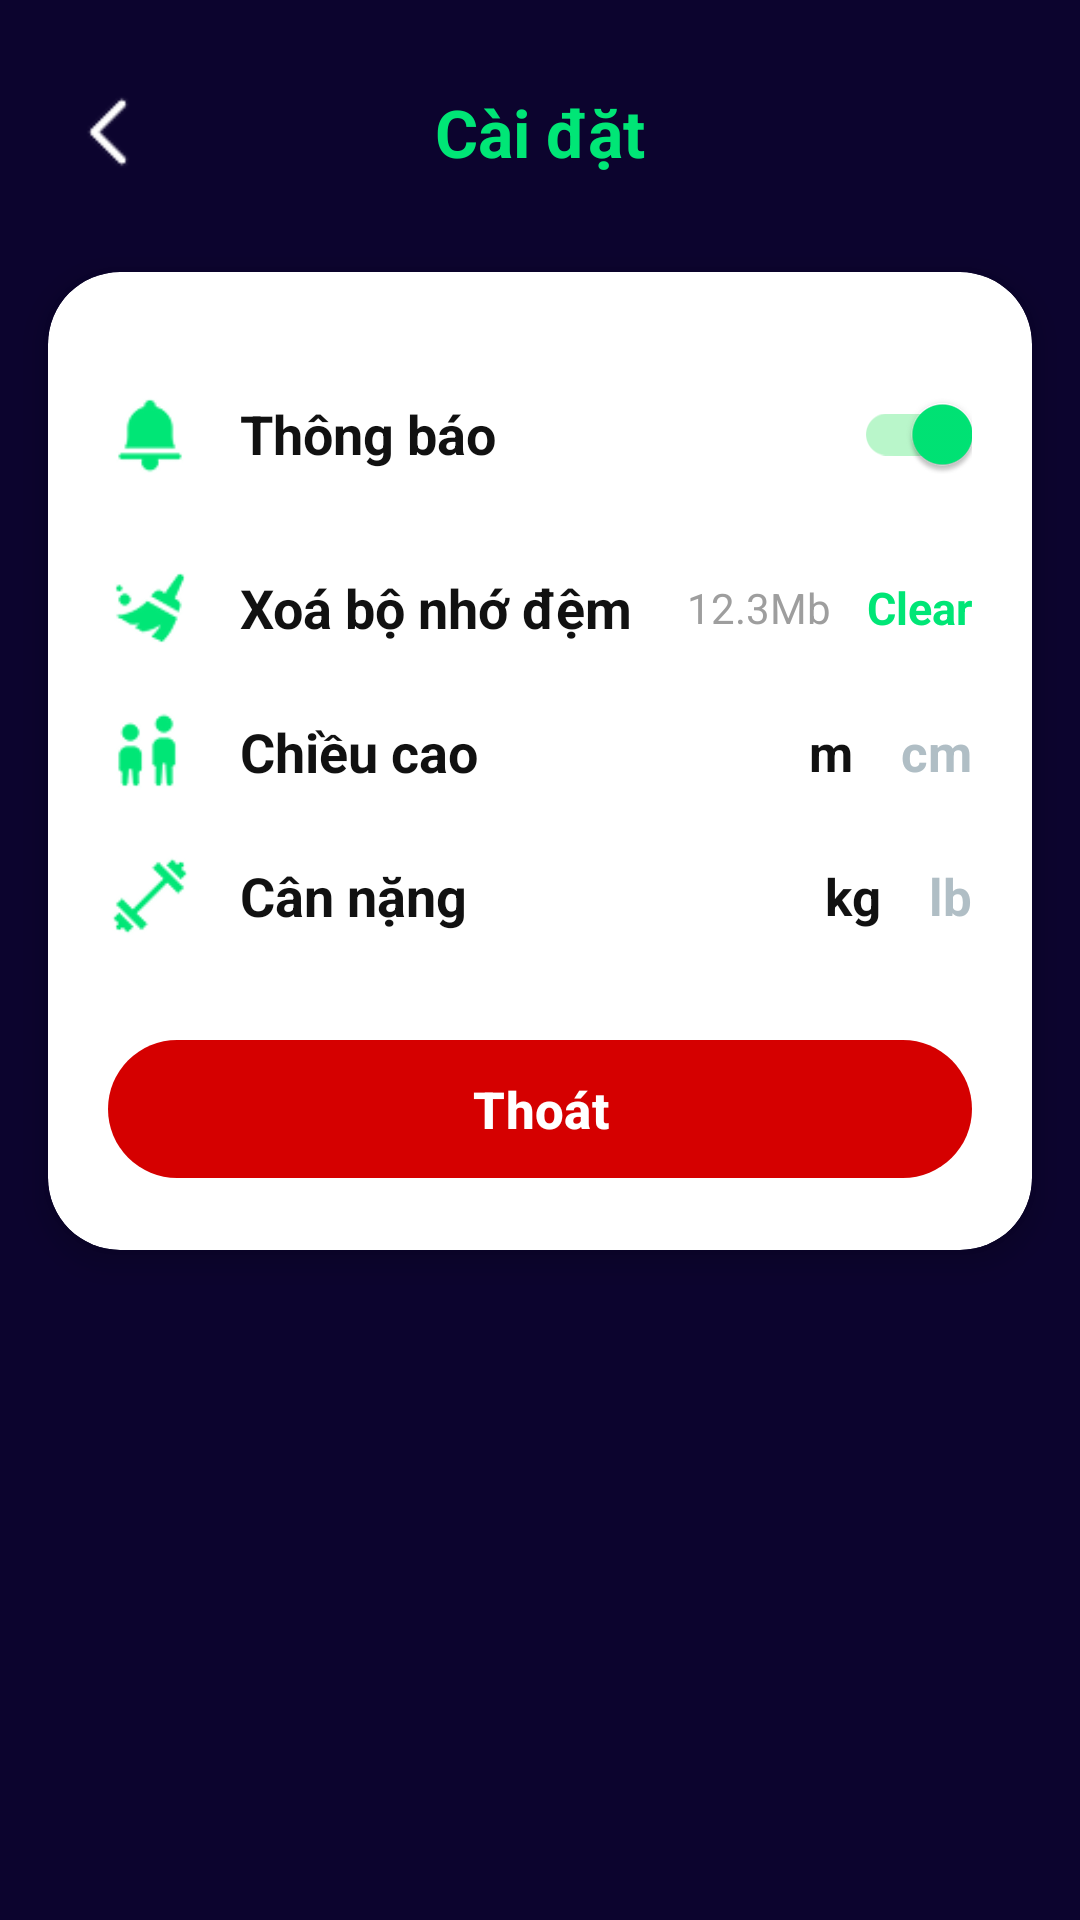

Icon click points for this 1080px×1920px phone screenshot, format [x,y]:
back: [108,132]
bell: [150,435]
broom: [150,607]
height: [147,750]
weight: [150,896]
